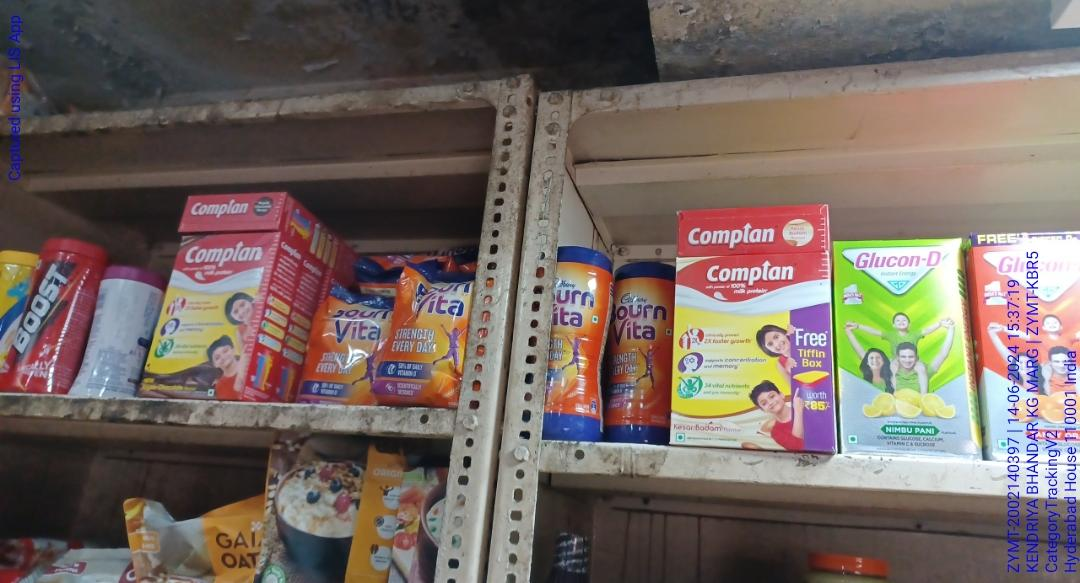BOURN_VITA_500_G_JAR: (546, 249, 610, 439)
COMPLAN_KESAR_BADAM_500_GMS_PACK: (672, 258, 834, 453)
